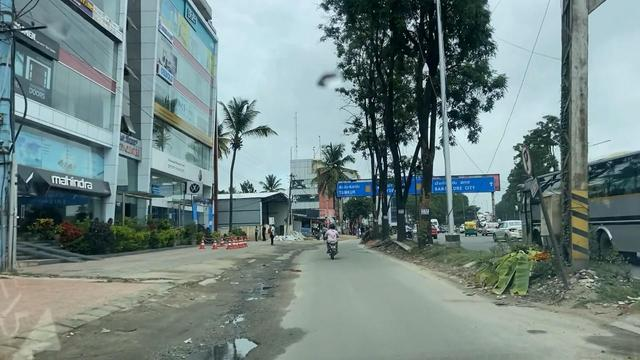RoadDamages: (172, 318, 262, 360), (208, 280, 270, 320)
